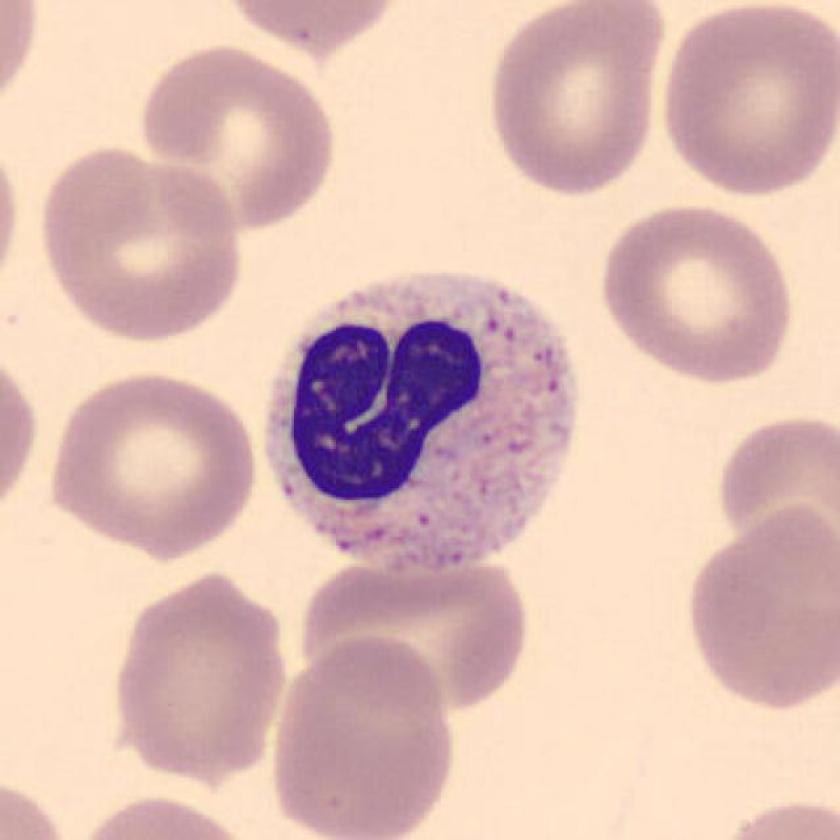neutrophil: (266, 274, 576, 571)
